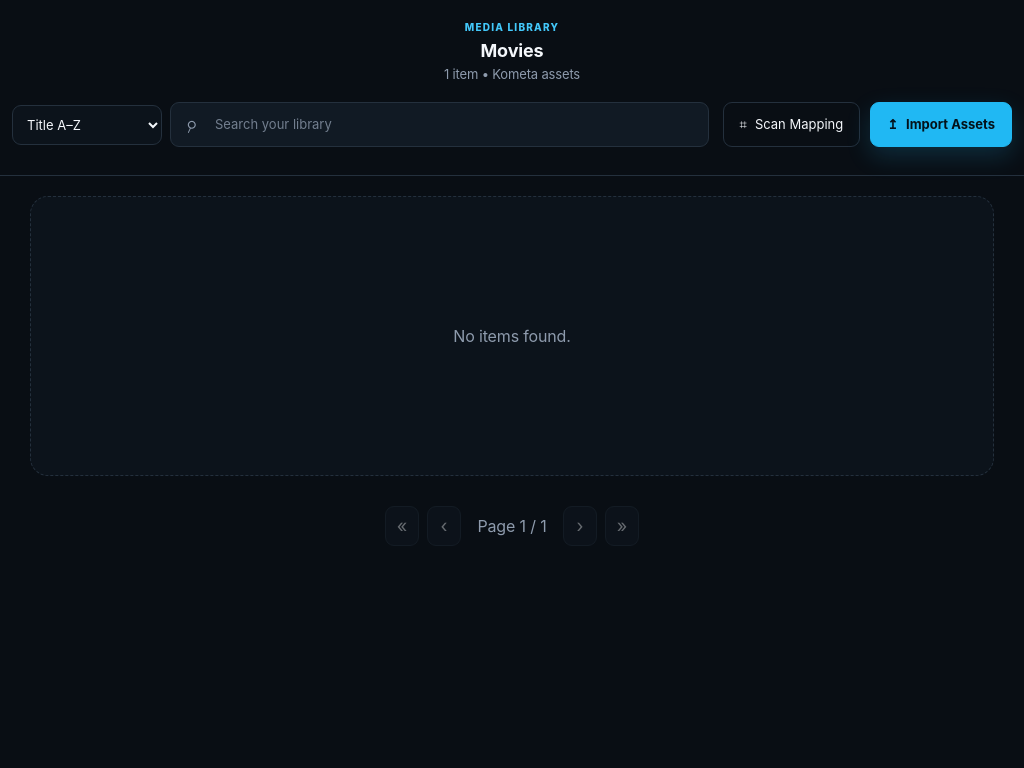
LibraryPage › opens poster/background choices for movie libraries
Click the button "↥ Import Assets" at coordinates (941, 125), box top-left (870, 102), bottom-right (1012, 147)
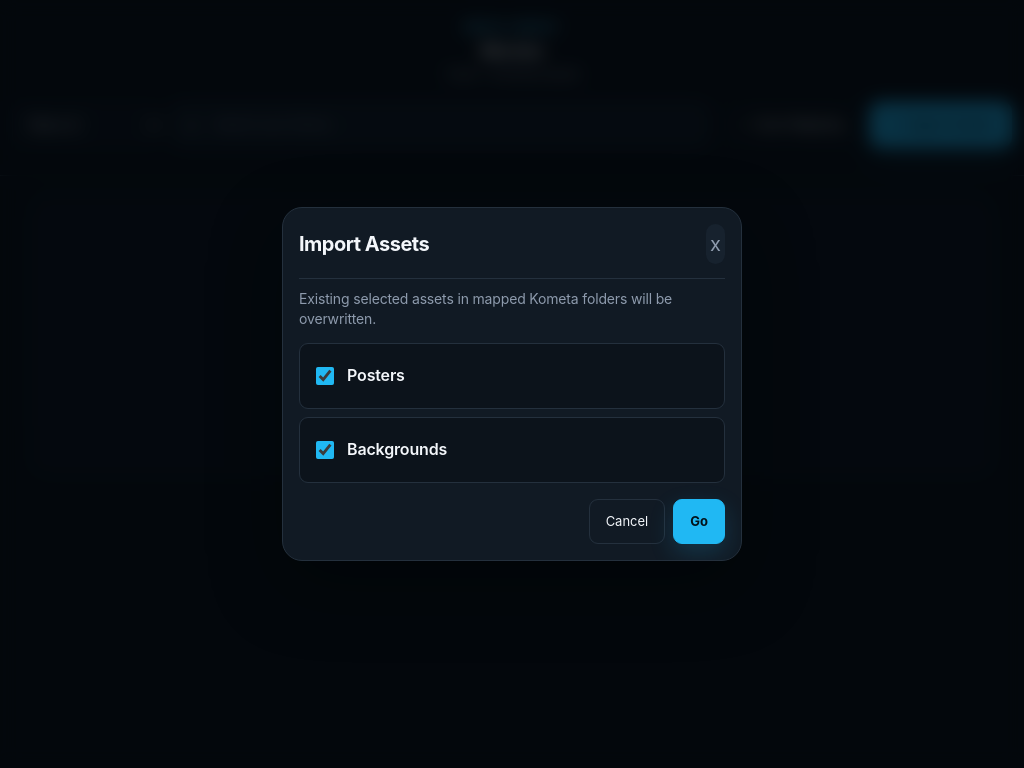
Expected: the dialog "Import Assets" is shown, top-left (282, 207), bottom-right (742, 561)
Expected: the checkbox labelled "Posters" is checked, top-left (316, 356), bottom-right (334, 396)
Expected: the checkbox labelled "Backgrounds" is checked, top-left (316, 430), bottom-right (334, 470)
